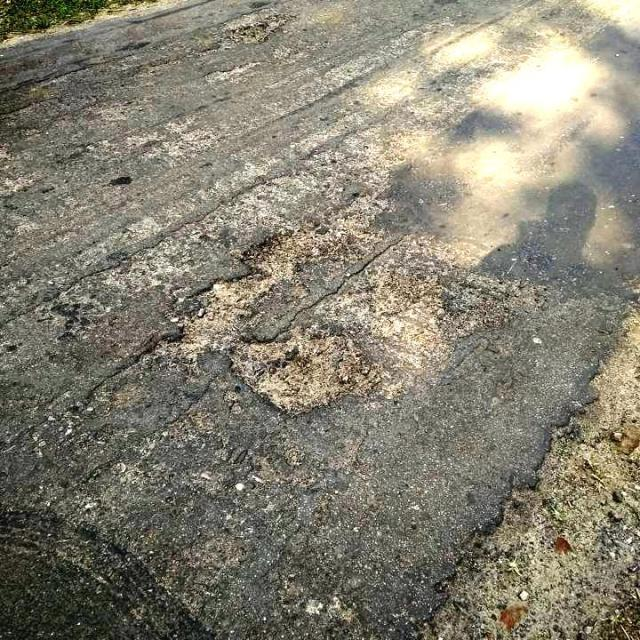pothole: (439, 387, 639, 639), (143, 227, 313, 366), (227, 318, 361, 418), (224, 12, 292, 42)
